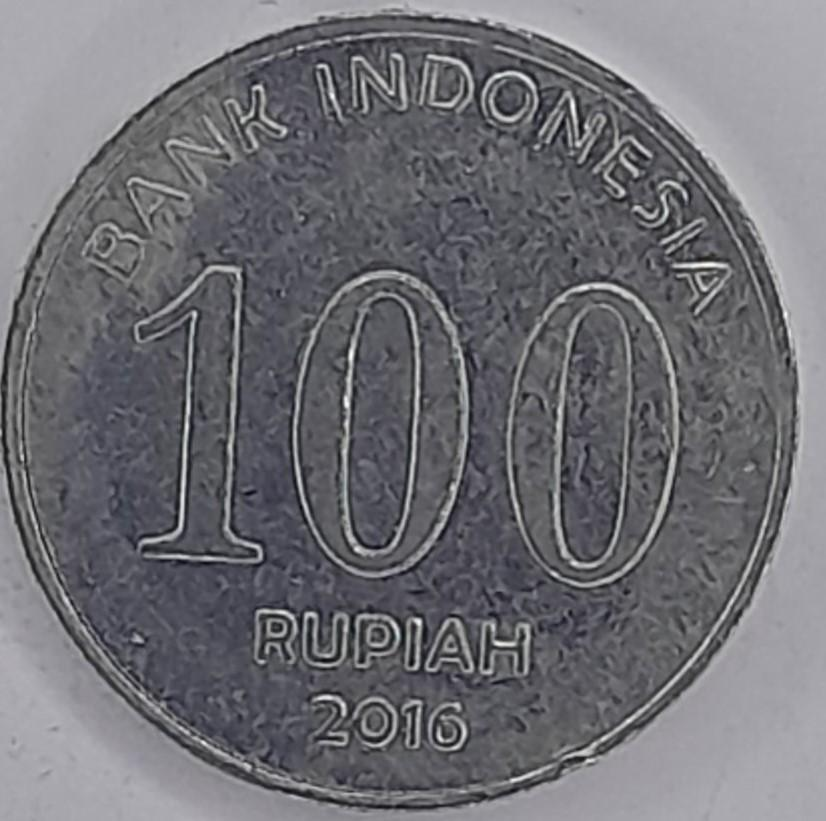coin_100_e2016: (0, 3, 806, 814)
